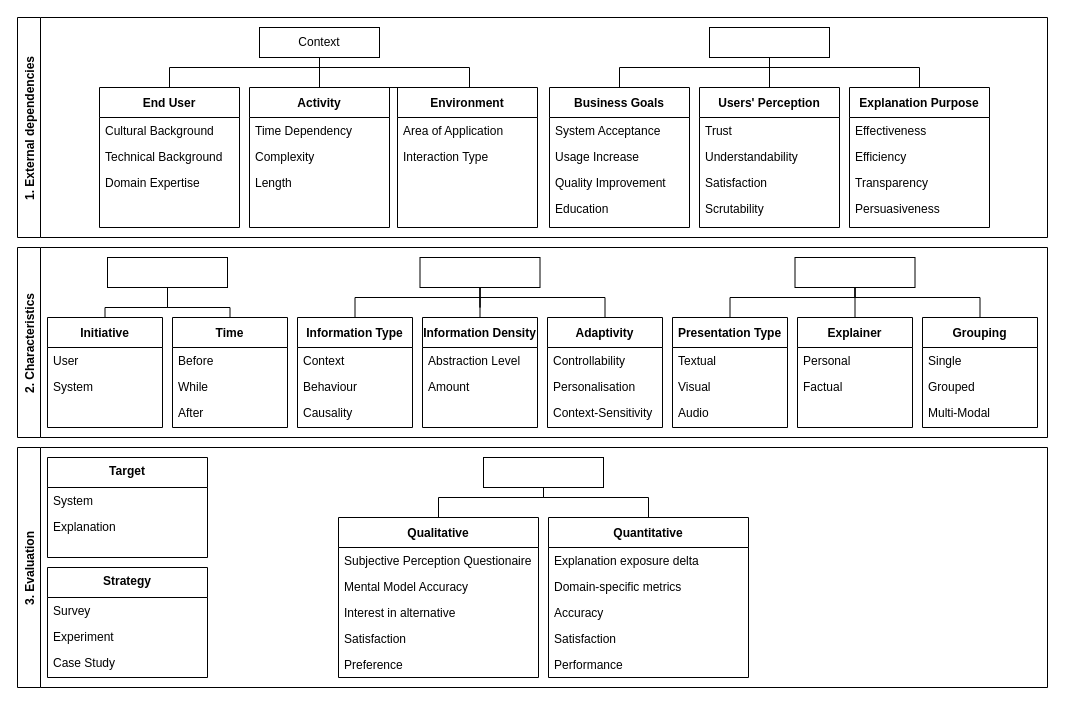
This 1065x705 diagram has some shape labels left out. The centre of each missing label's shape, as x and y in pixels:
Content: point (479, 272)
Demand: point (167, 272)
Measurements: point (543, 472)
Objectives: point (769, 42)
Presentation: point (854, 272)
